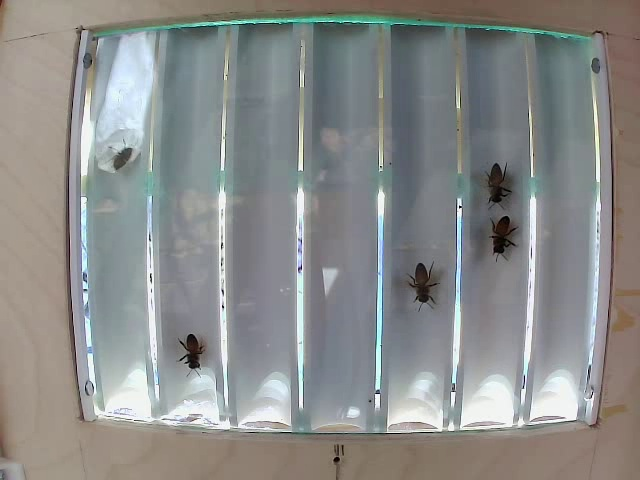bee: (391, 253, 450, 314), (474, 211, 516, 268), (173, 322, 219, 373), (471, 162, 510, 215)
